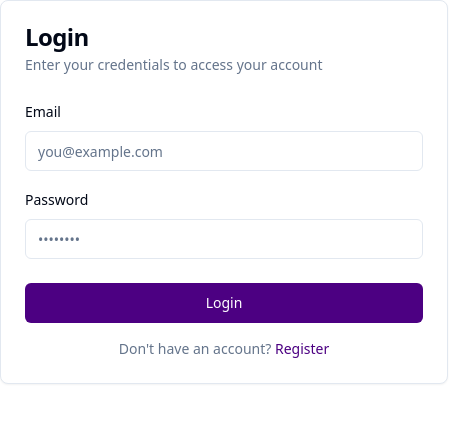
Test: LoginForm › shows validation error for invalid email
The image size is (465, 429).
// Fill in invalid email and valid password
Type "notanemail" into the field labelled "Email" at (224, 151), box top-left (25, 131), bottom-right (423, 171)
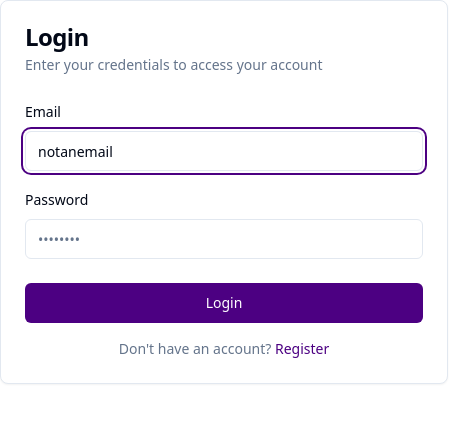
Type "password123" into the password field labelled "Password" at (224, 239), box top-left (25, 219), bottom-right (423, 259)
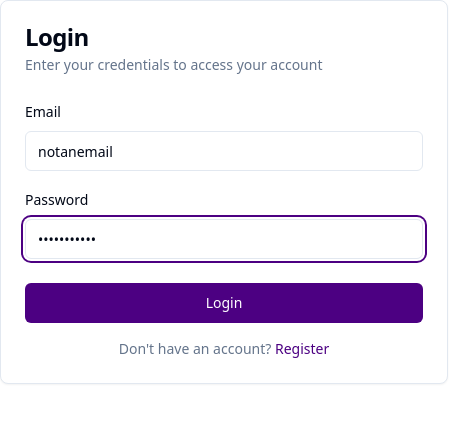
Click the button "Login" at (224, 303), box top-left (25, 283), bottom-right (423, 323)
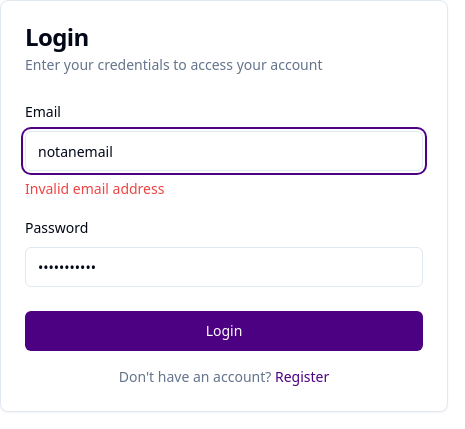
Result: the text "Invalid email address" is shown at top-left (25, 179), bottom-right (164, 198)
